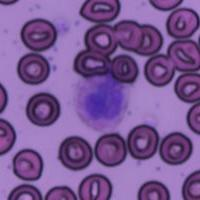N: (72, 71, 130, 131)
